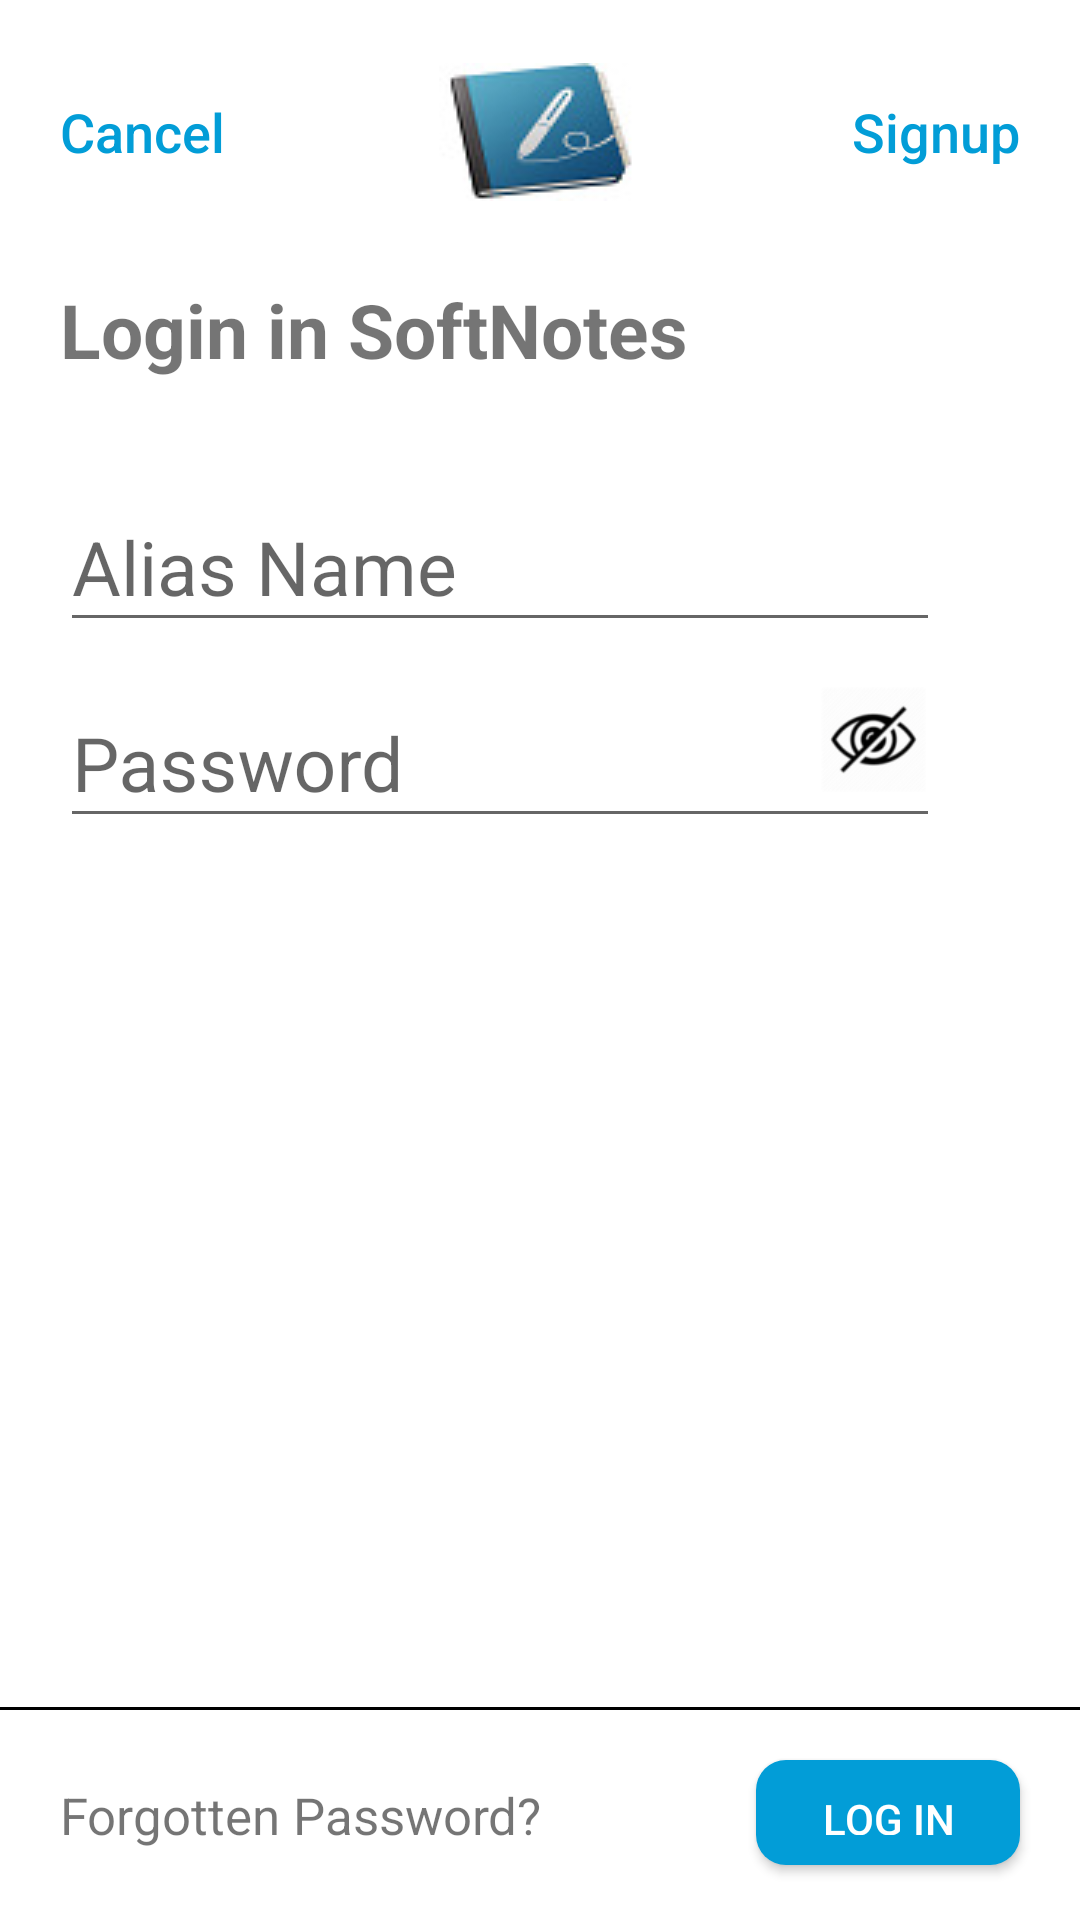

Named icons in this screenshot (1080px x 1920px) and their centers, (x,y):
hide: (873,739)
